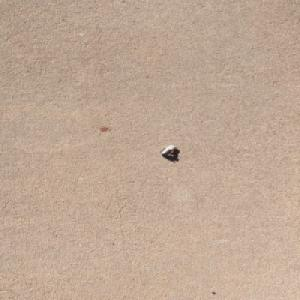MetalPart: (159, 144, 177, 158)
